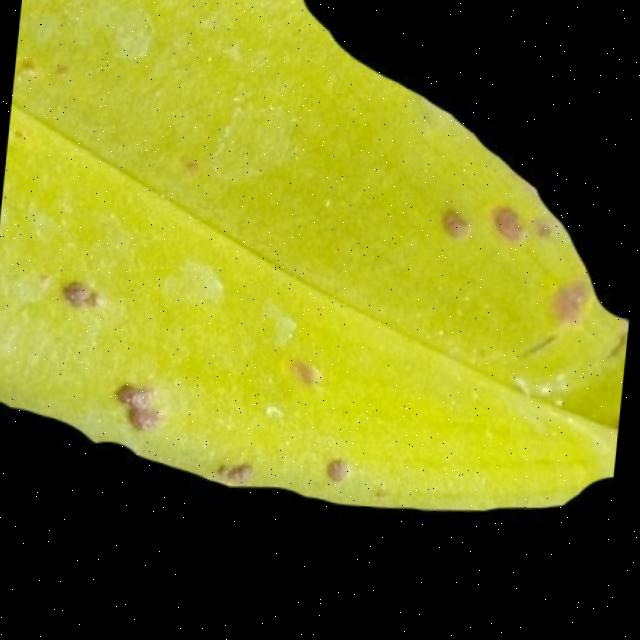mite: (429, 201, 603, 333), (439, 205, 560, 251), (46, 264, 120, 323), (491, 208, 531, 247), (442, 209, 475, 244), (536, 225, 557, 246)
sunburn: (111, 379, 171, 437), (58, 276, 108, 316)
